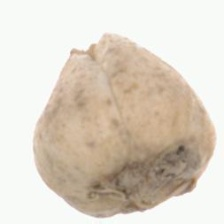L1: (93, 177, 202, 218), (63, 32, 119, 61)
L2: (32, 32, 216, 219)
